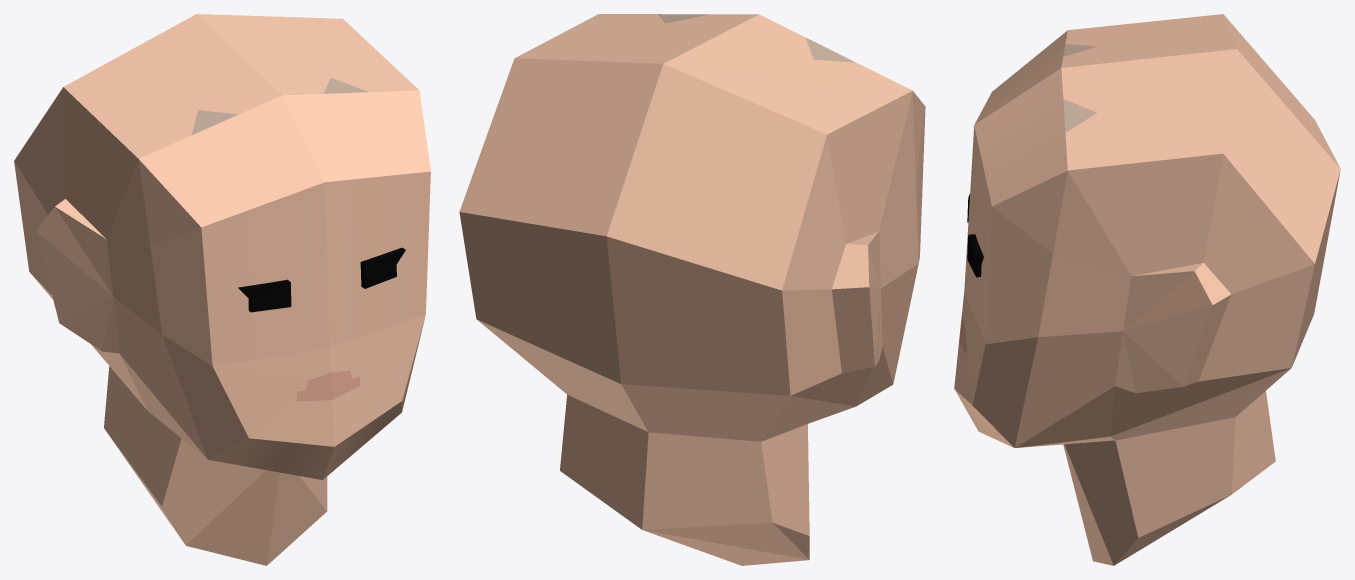
Rendered from Chr_Head_Female_17_Static.fbx.
3 views of the same model, side by side, from view 1: azimuth 30°, elevation 25°; view 2: azimuth 150°, elevation 25°; view 3: azimuth 270°, elevation 25° (orthographic). The views are drawn at different scales.
Visible parts, largest first — view 1: Chr_Head_Female_17_Static; view 2: Chr_Head_Female_17_Static; view 3: Chr_Head_Female_17_Static.
Part boxes in pixels (x1,y1,x2,y2): Chr_Head_Female_17_Static: (14,14,430,565); Chr_Head_Female_17_Static: (459,14,925,565); Chr_Head_Female_17_Static: (954,14,1340,565).
Bounding box in the file's own units: 0.2661 × 0.3693 × 0.2526.
